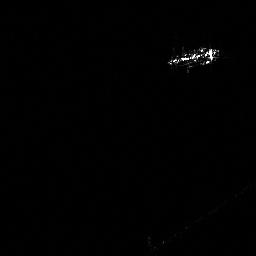ship: (165, 44, 222, 71)
